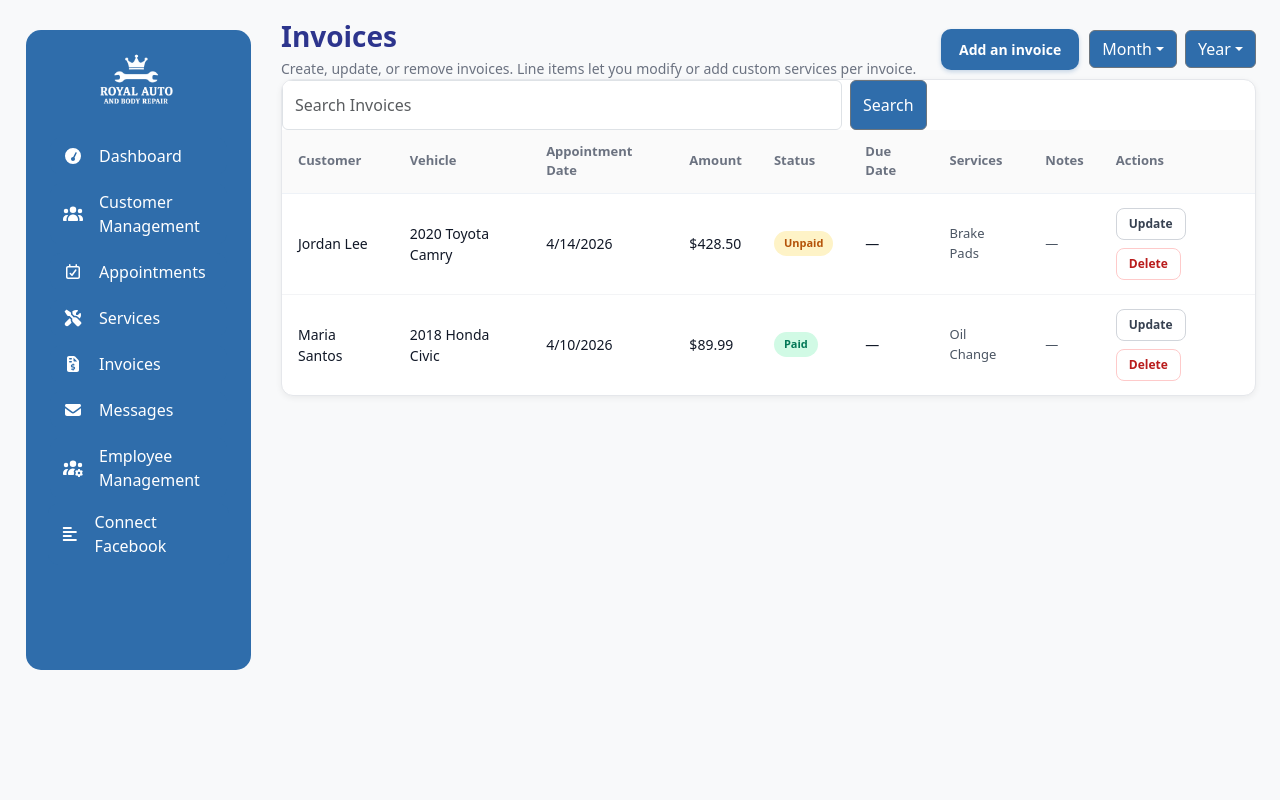
Test: Admin Invoices page › opens add modal and cancel closes it
The width and height of the screenshot is (1280, 800).
Expected: the text "Jordan Lee" is shown, [282,193,394,294]
Step 1. Click the button "Add an invoice" → (1010, 49), box [941,29,1079,70]
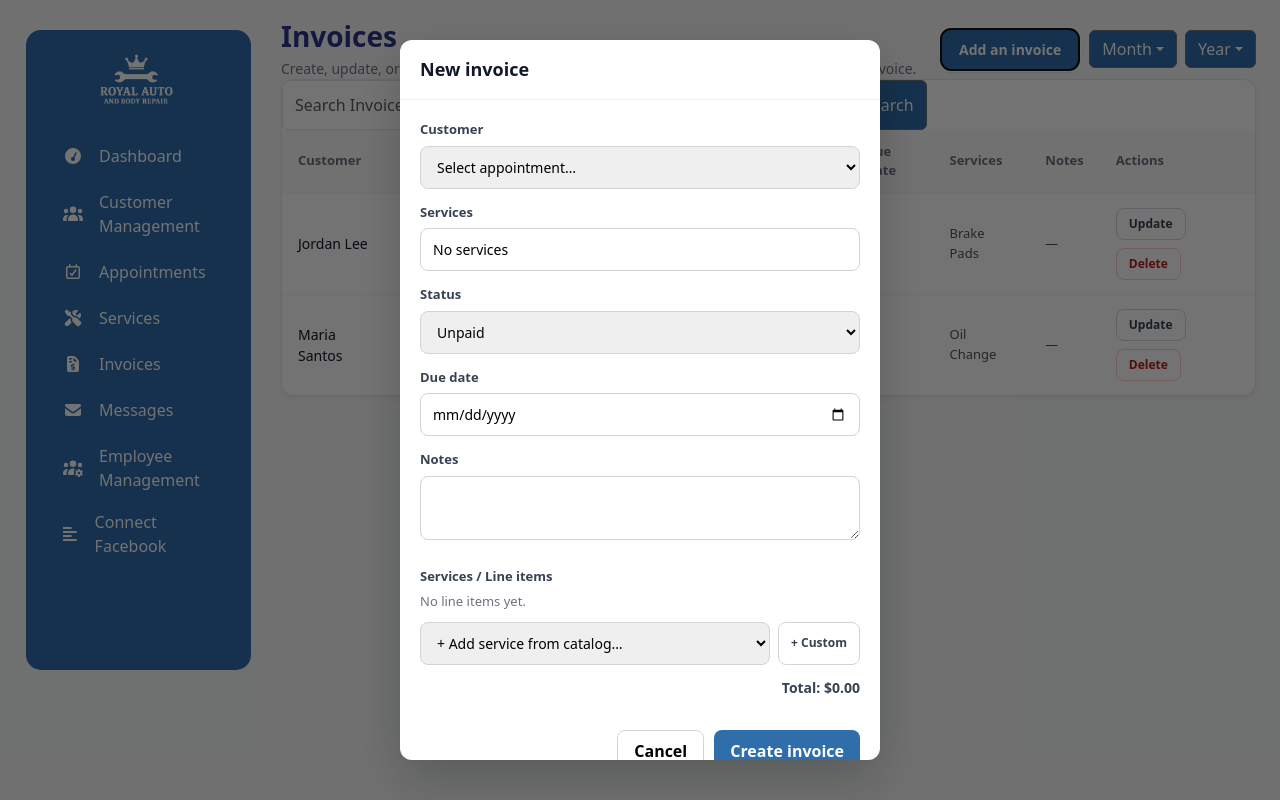
Expected: the text "New invoice" is shown, [400,40,880,100]
Step 2. Click the button "Cancel" → (661, 750), box [617,730,704,772]
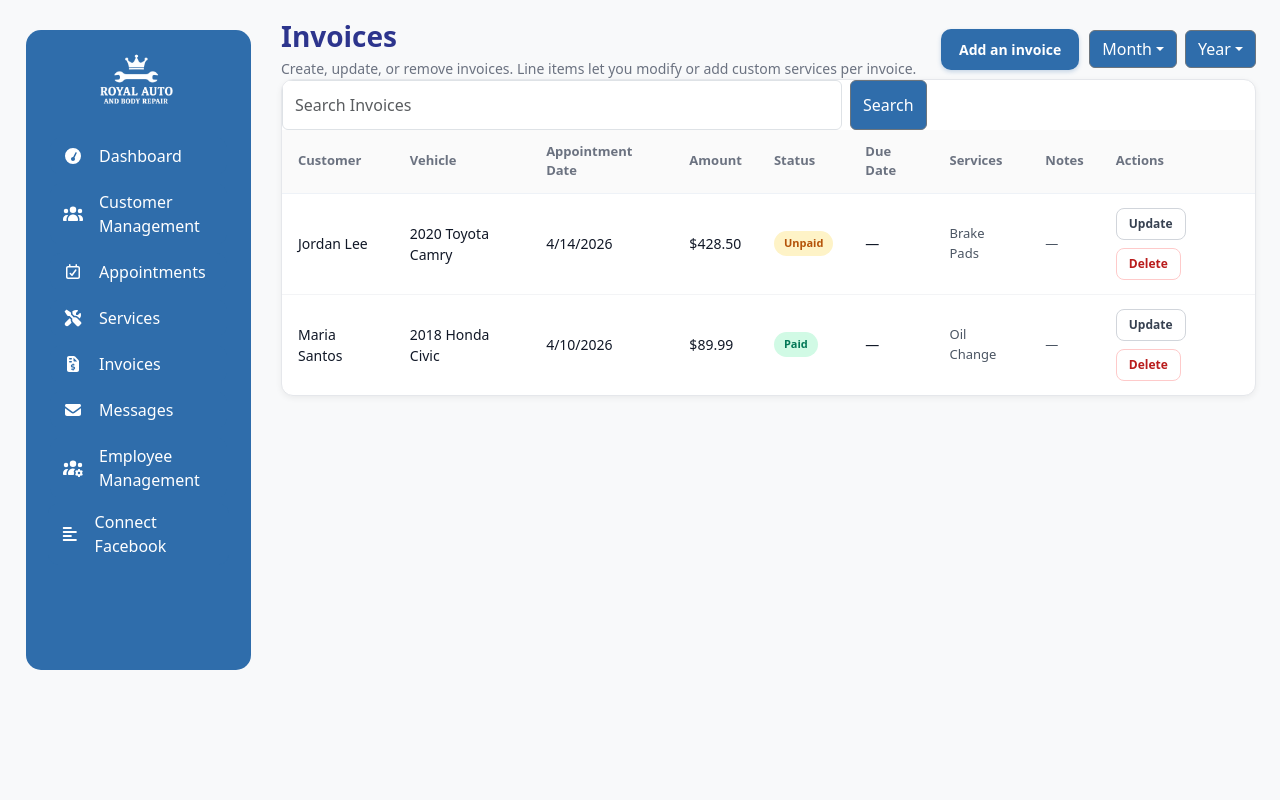
Expected: the dialog is gone
